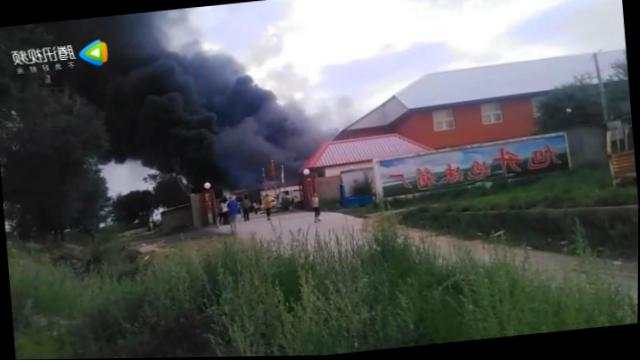smoke: (115, 43, 190, 171), (188, 101, 332, 153), (190, 141, 307, 189), (186, 73, 276, 114), (181, 42, 243, 81), (109, 12, 169, 49)
